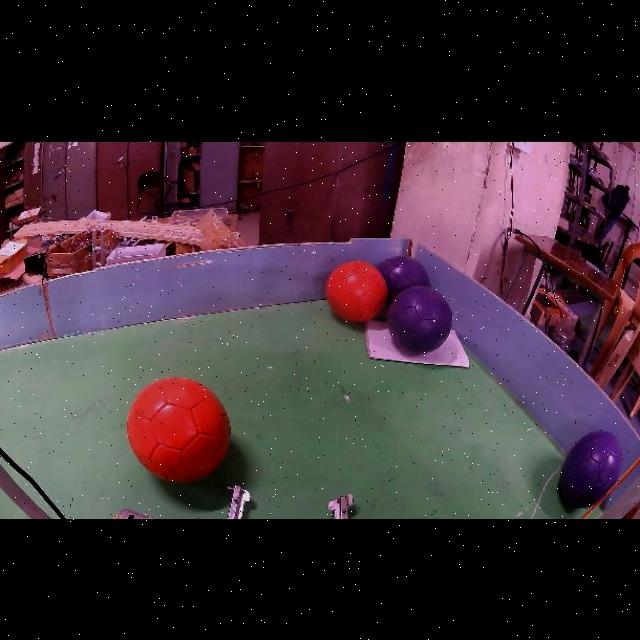P: (560, 430, 621, 508), (387, 286, 452, 354), (379, 256, 429, 304)
R: (127, 378, 231, 483), (326, 261, 388, 323)
